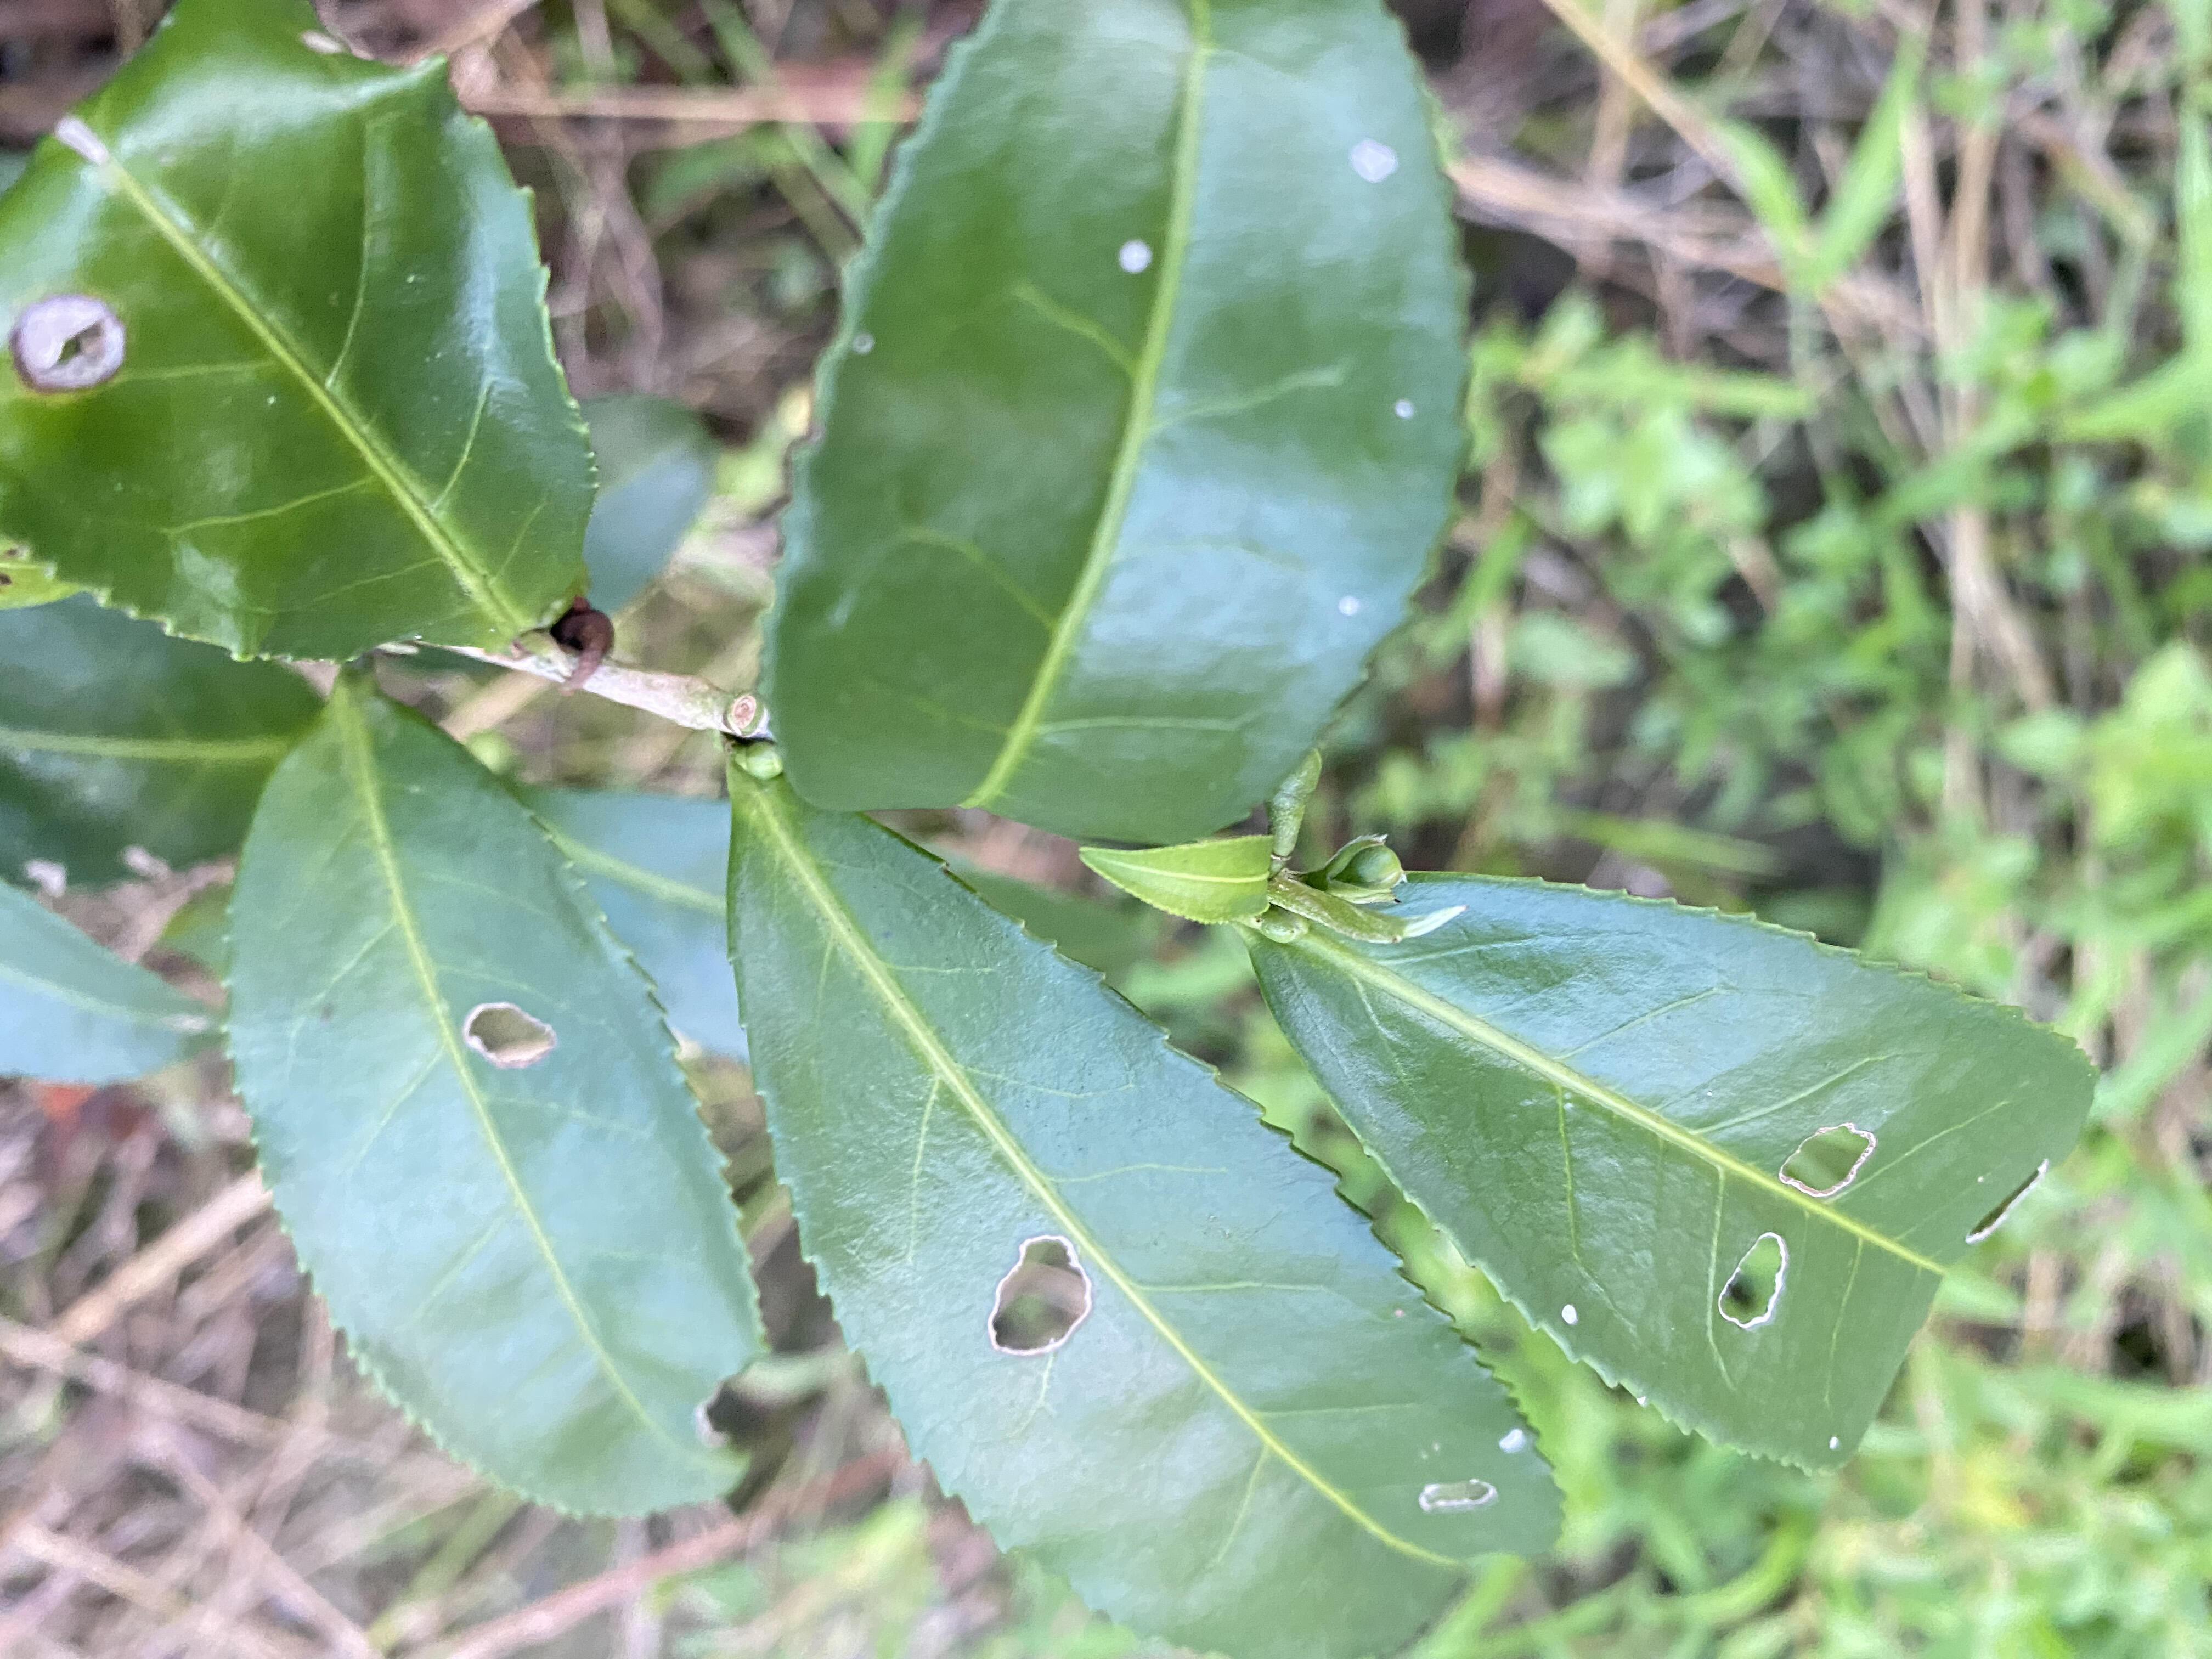chihuo_high: (723, 788, 1568, 1656), (1251, 871, 2101, 1473), (223, 699, 766, 1521)
tanju_high: (2, 2, 599, 657)
tanju_low: (758, 2, 1480, 849)
